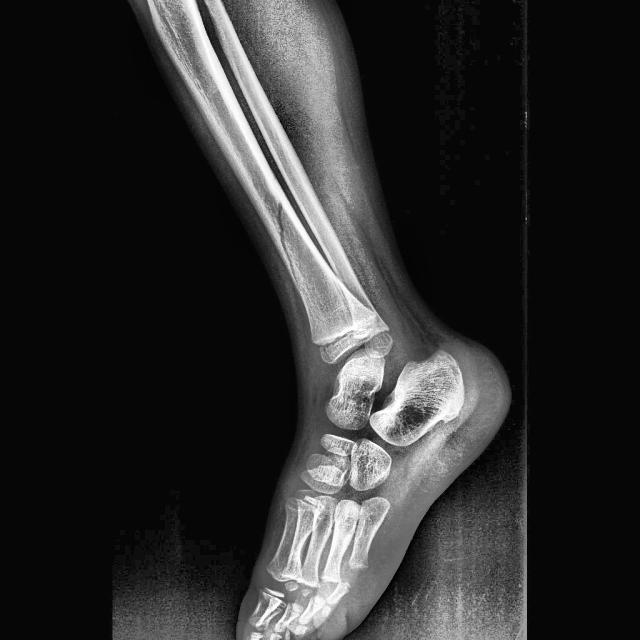line: (276, 198, 298, 280)
